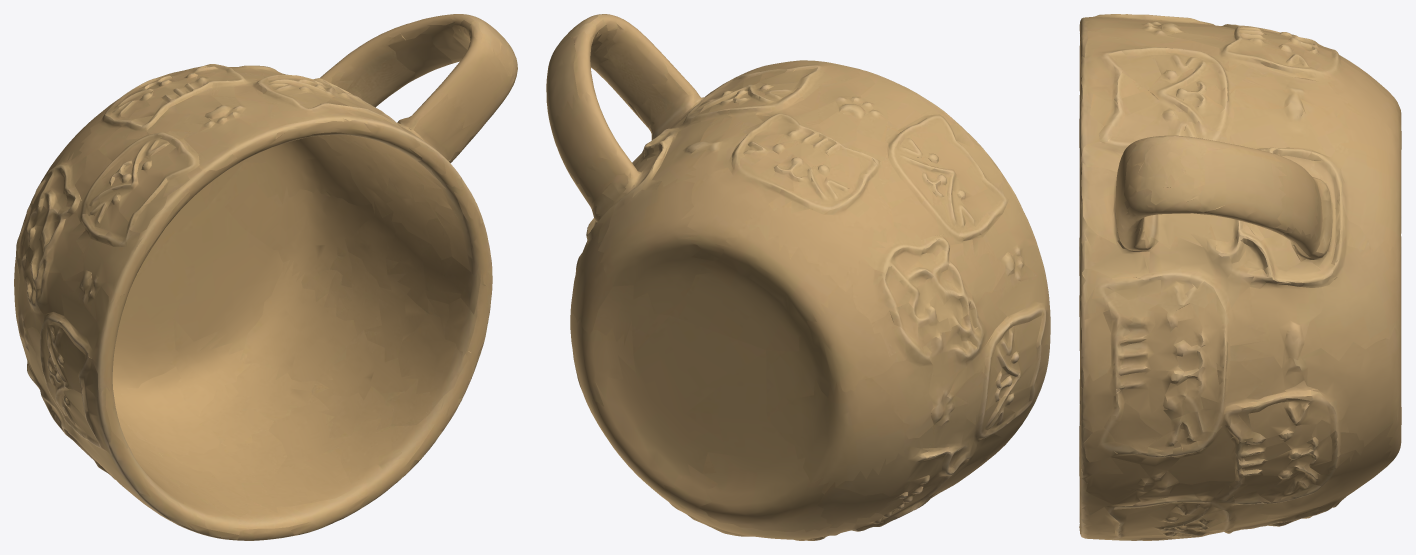
Rendered from sister-3.glb.
3 renders of one model, left to right at view 1: azimuth 30°, elevation 25°; view 2: azimuth 150°, elevation 25°; view 3: azimuth 270°, elevation 25°, orthographic. The views are drawn at different scales.
Parts seen in each view (by area): view 1: ceramic mug; view 2: ceramic mug; view 3: ceramic mug.
Part boxes in pixels (x1,y1,x2,y2): ceramic mug: [14, 14, 517, 540]; ceramic mug: [546, 14, 1050, 540]; ceramic mug: [1079, 14, 1401, 540].
Bounding box in the file's own units: 0.114 × 0.1046 × 0.0611.
Materials: 1 (1 with a texture image).
